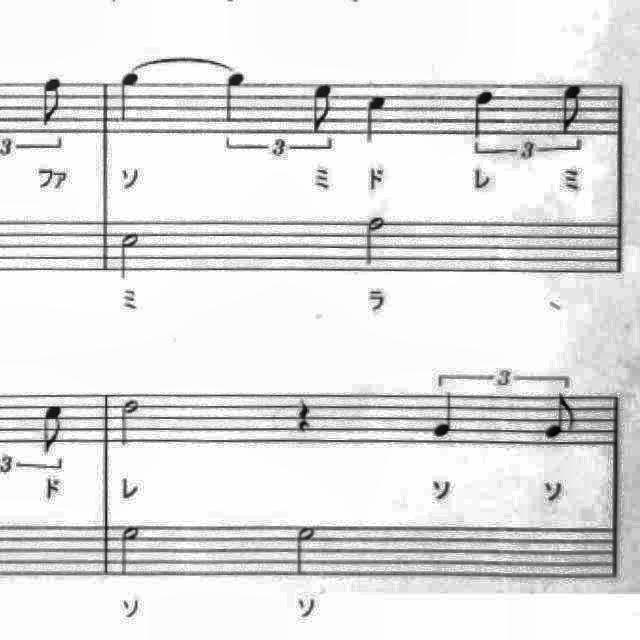Eighth-note: (305, 78, 343, 138), (540, 391, 582, 445), (34, 72, 70, 132), (36, 398, 70, 458), (554, 80, 590, 136)
Half-note: (289, 520, 327, 582), (113, 520, 147, 580), (115, 224, 149, 284), (360, 212, 392, 272), (112, 395, 144, 453)
Quarter-note: (357, 87, 393, 149), (218, 68, 254, 128), (112, 71, 148, 129), (428, 388, 464, 444), (466, 86, 498, 146)
Quarter-rest: (290, 390, 322, 438)
